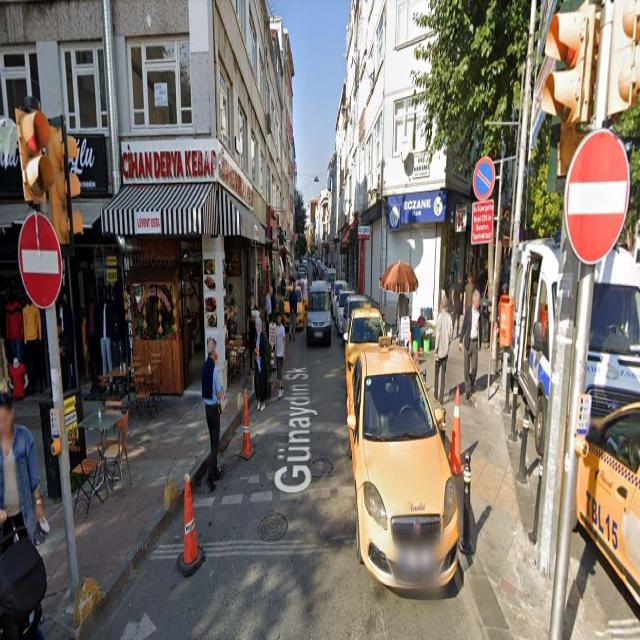girisyok: (564, 132, 629, 265), (19, 213, 62, 310)
parkyasak: (473, 156, 494, 200)
